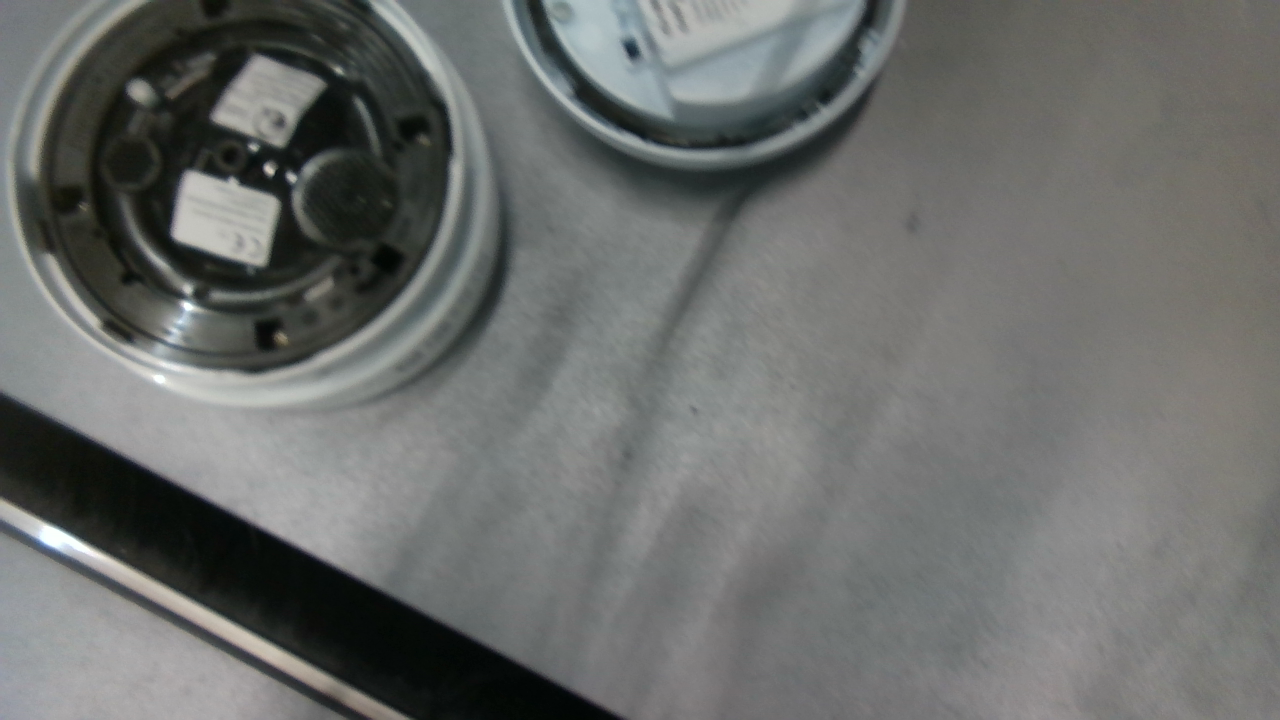HexScrew: (268, 326, 292, 349), (409, 129, 435, 150), (554, 2, 573, 24)
